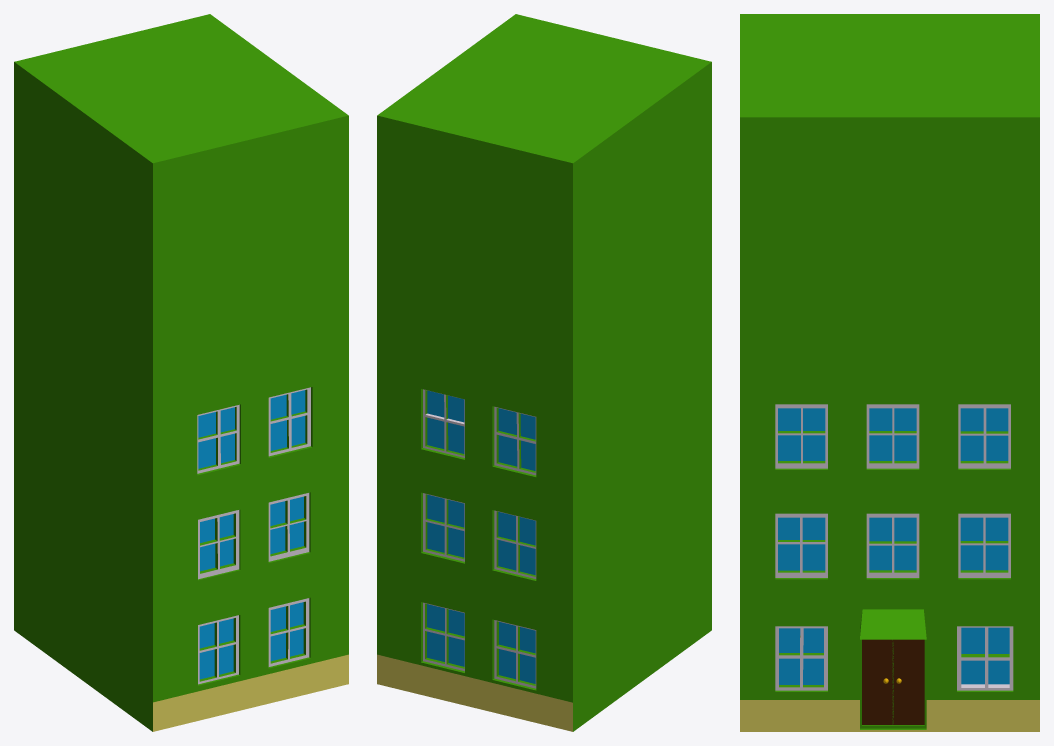
File: High Rise 4 Green.fbx
3 views of the same model, side by side, from view 1: azimuth 30°, elevation 25°; view 2: azimuth 150°, elevation 25°; view 3: azimuth 270°, elevation 25° (orthographic). The views are drawn at different scales.
Parts seen in each view (by area): view 1: Cube; view 2: Cube; view 3: Cube.
Boxes of the visible parts, <box> form: Cube: <box>14,14,348,731</box>; Cube: <box>377,14,711,731</box>; Cube: <box>740,14,1039,731</box>.
Size of the model in its own units: 314 by 791 by 350.
